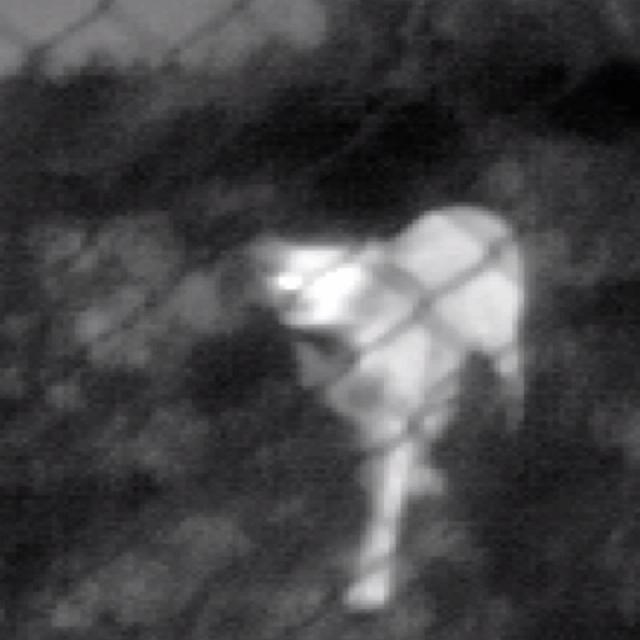cheetah: (255, 208, 522, 609)
